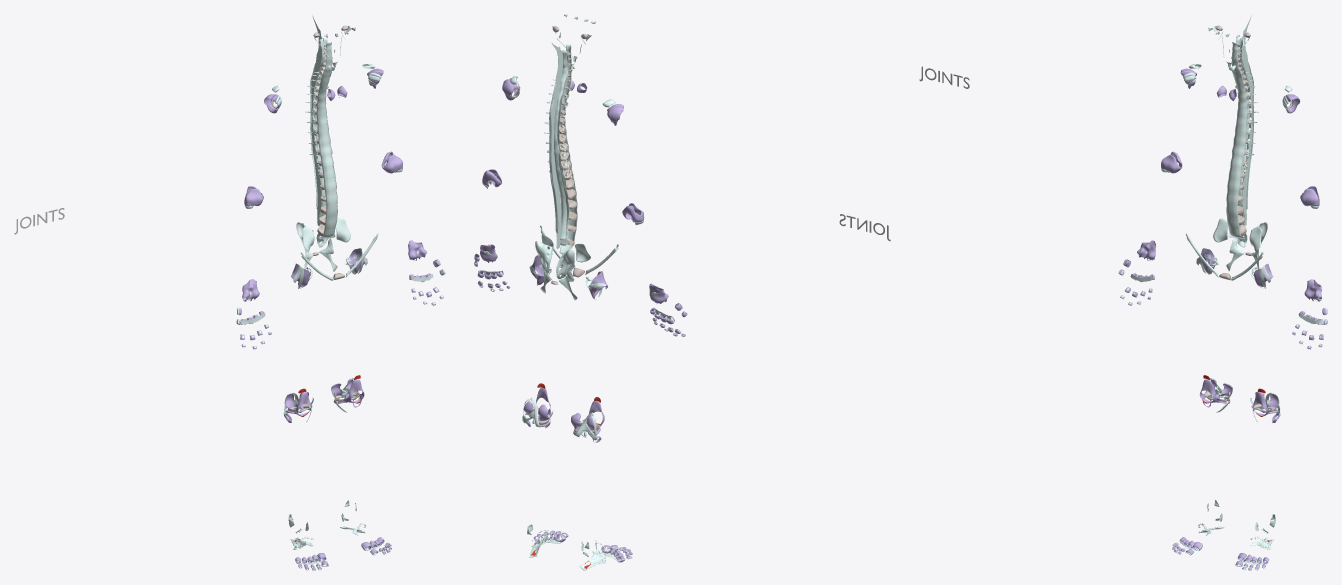
The model's file is joint.glb.
3 views of the same model, side by side, from view 1: azimuth 30°, elevation 25°; view 2: azimuth 150°, elevation 25°; view 3: azimuth 330°, elevation 25° (orthographic). The views are drawn at different scales.
Visible parts, largest first — view 1: jo0005, jo0082; view 2: jo0119, jo0082, jo0005, jo0152; view 3: jo0005, jo0082.
Part boxes in pixels (x1=…): jo0005: x1=316, y1=42, x2=337, y2=238; jo0082: x1=311, y1=37, x2=323, y2=225; jo0119: x1=554, y1=50, x2=567, y2=239; jo0082: x1=551, y1=50, x2=563, y2=249; jo0005: x1=559, y1=44, x2=577, y2=254; jo0152: x1=557, y1=50, x2=569, y2=245; jo0005: x1=1226, y1=42, x2=1247, y2=238; jo0082: x1=1240, y1=37, x2=1252, y2=225.
Size of the model in its own units: 1.33 by 1.59 by 0.2308.
